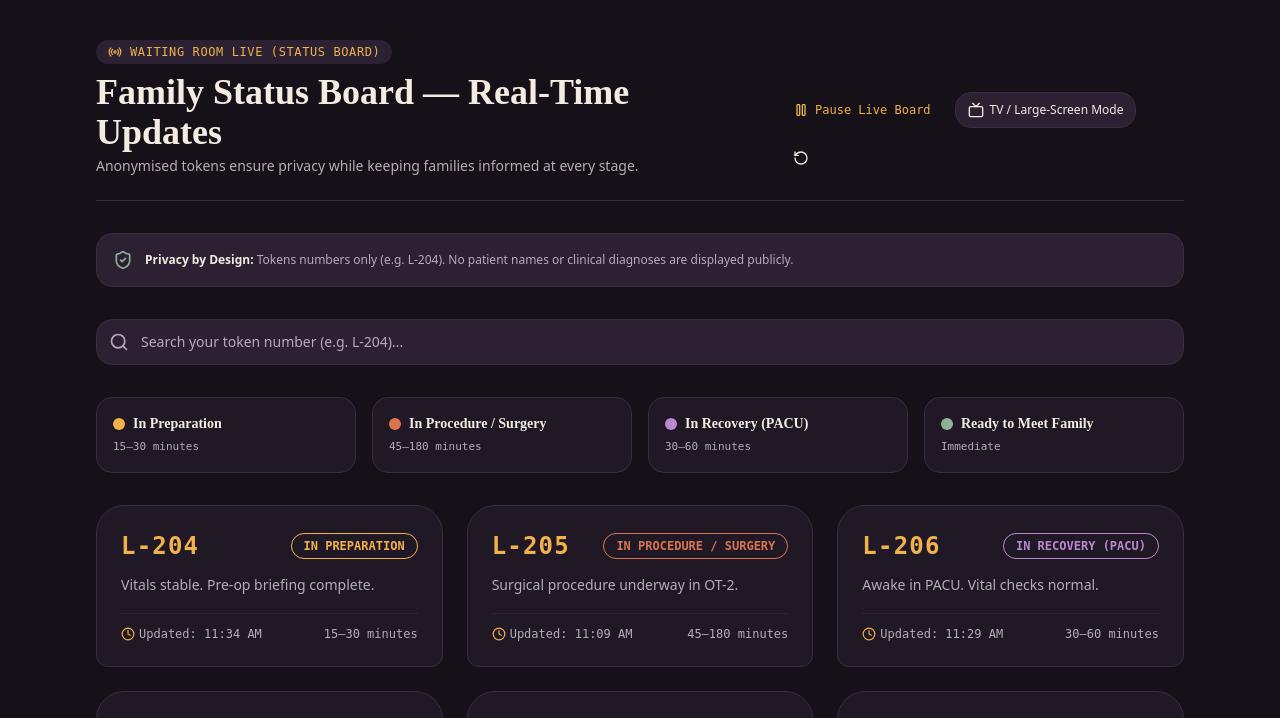
Test: Phase 5 The Path & Waiting Room Live Components › renders BoardPage with status tokens and supports TV Mode toggle
Expected: the heading "Family Status Board — Real-Time Updates" is shown, [96,72,629,152]
Expected: the text "L-204" is shown, [254,251,793,268]
# Toggle TV mode
Click the button "TV / Large-Screen Mode": click(1046, 110) [955,92,1136,128]
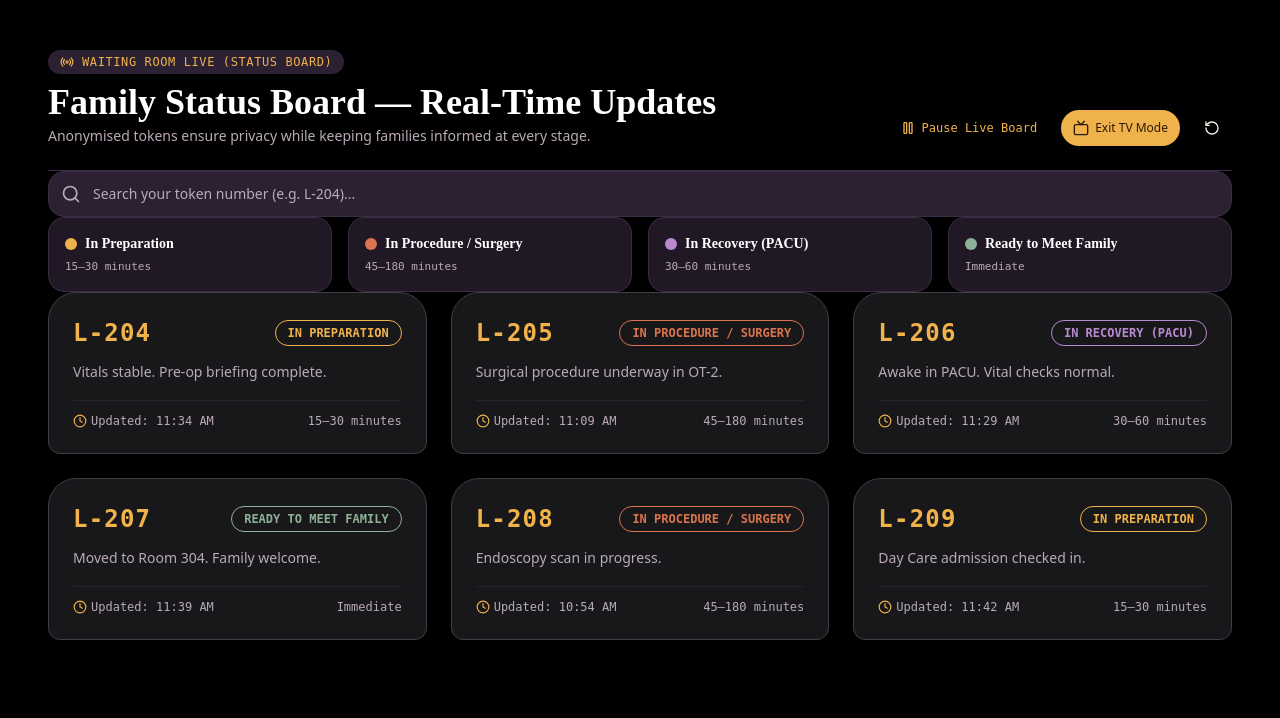
Expected: the button "Exit TV Mode" is shown, [1061,110,1180,146]
